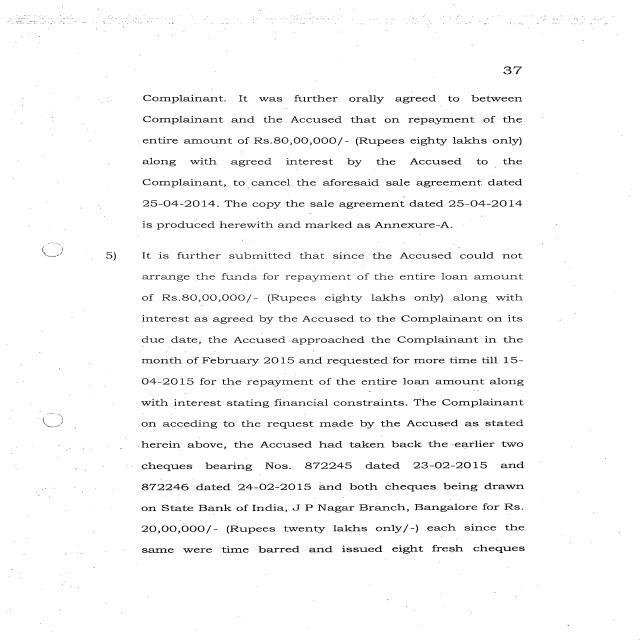page-number: (409, 30, 640, 90)
